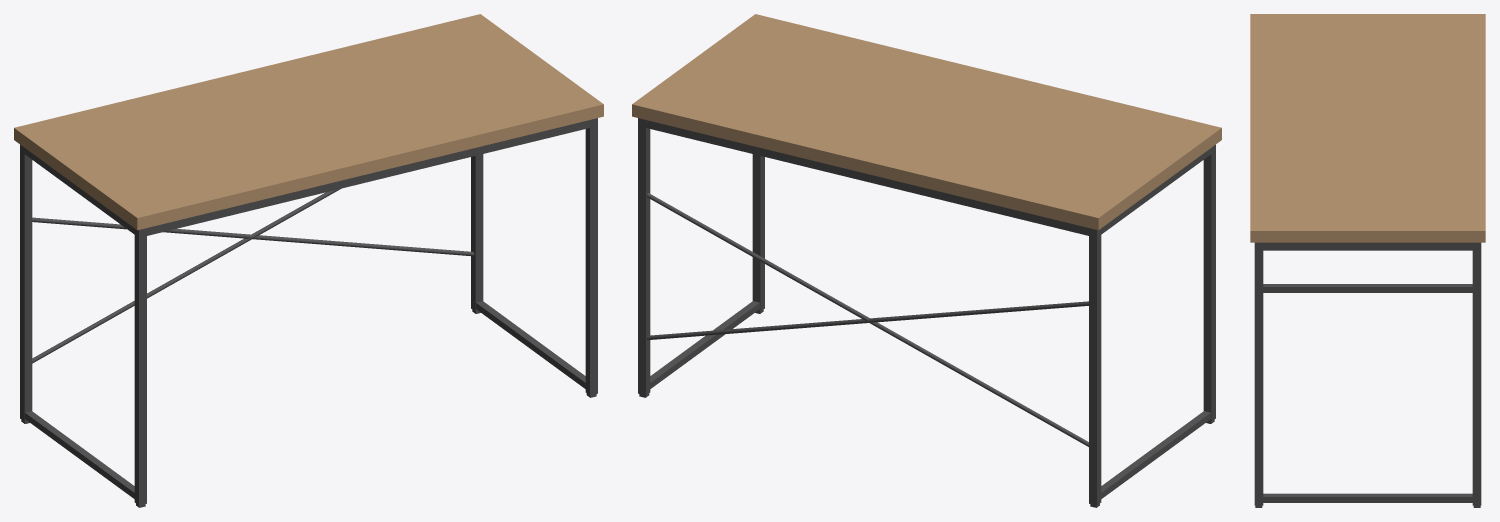
Rendered from 345_デスク.glb.
3 views of the same model, side by side, from view 1: azimuth 30°, elevation 25°; view 2: azimuth 150°, elevation 25°; view 3: azimuth 270°, elevation 25° (orthographic). The views are drawn at different scales.
Visible parts, largest first — view 1: Body1; view 2: Body1; view 3: Body1.
Boxes of the visible parts, bbox=[...] form: Body1: bbox=[14, 14, 603, 507]; Body1: bbox=[632, 14, 1221, 507]; Body1: bbox=[1250, 14, 1485, 507].
Bounding box in the file's own units: 1.2 × 0.72 × 0.55.
